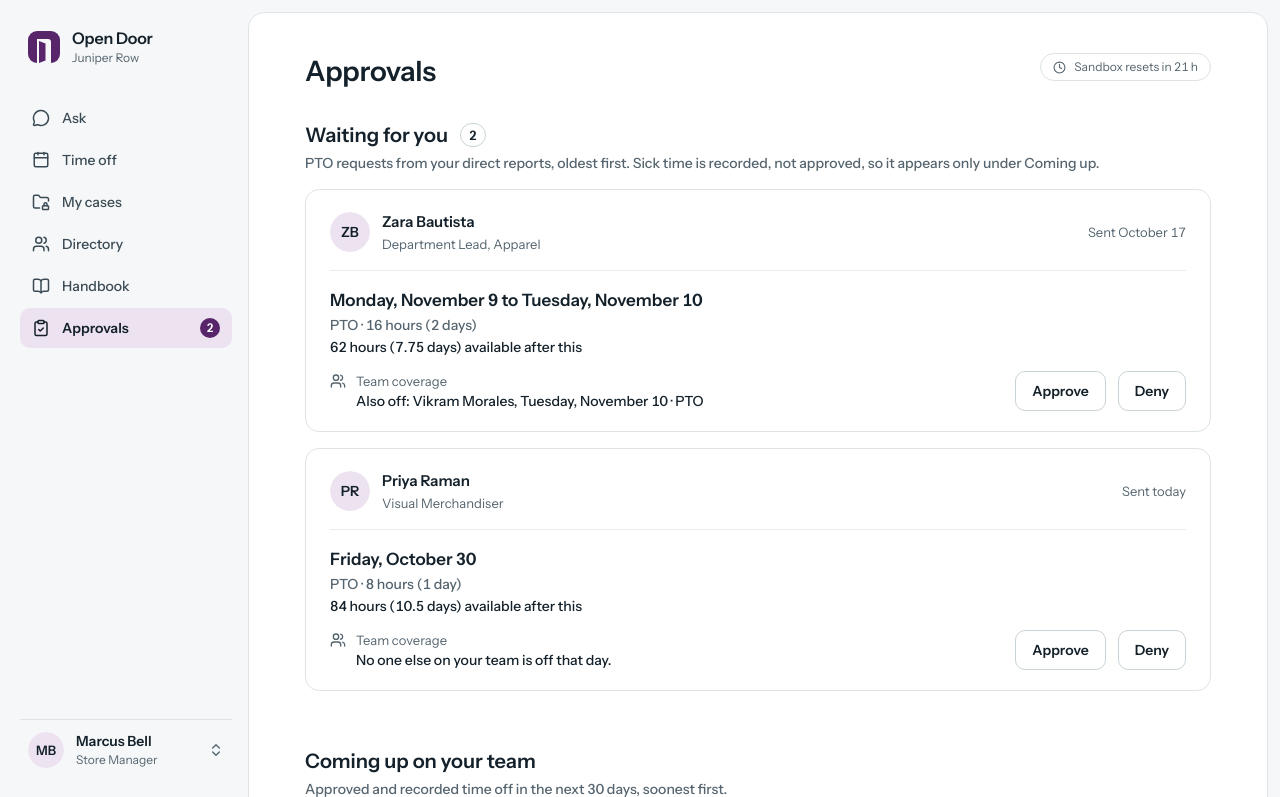
Test: Approvals: deciding › denies with a note: the toast says the note will be seen, and the note is sent
Expected: the heading "Waiting for you 2" is shown, [305, 123, 486, 147]
Click the button "Deny" below "Sent October 17" at x=1152, y=391, box [1118, 371, 1186, 411]
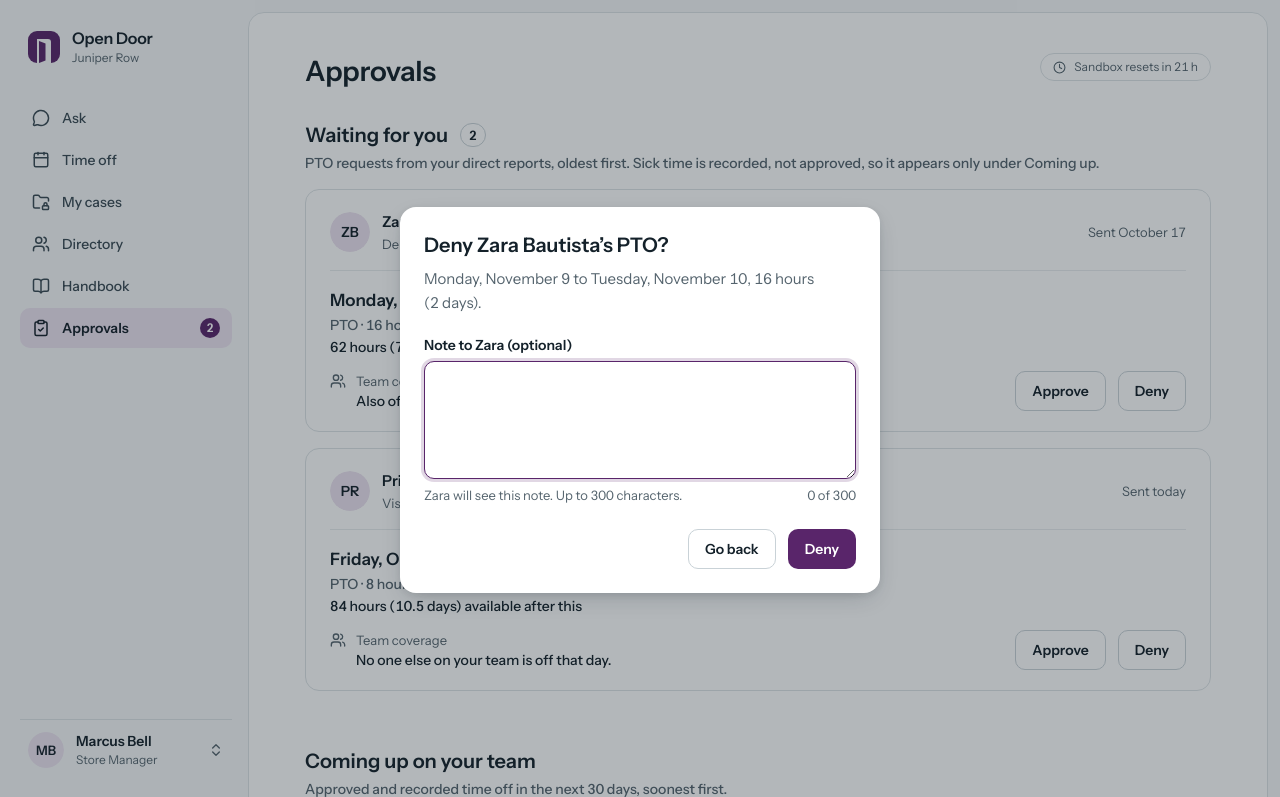
Type "Inventory runs that week." into the text box at x=640, y=420, box [424, 361, 856, 479]
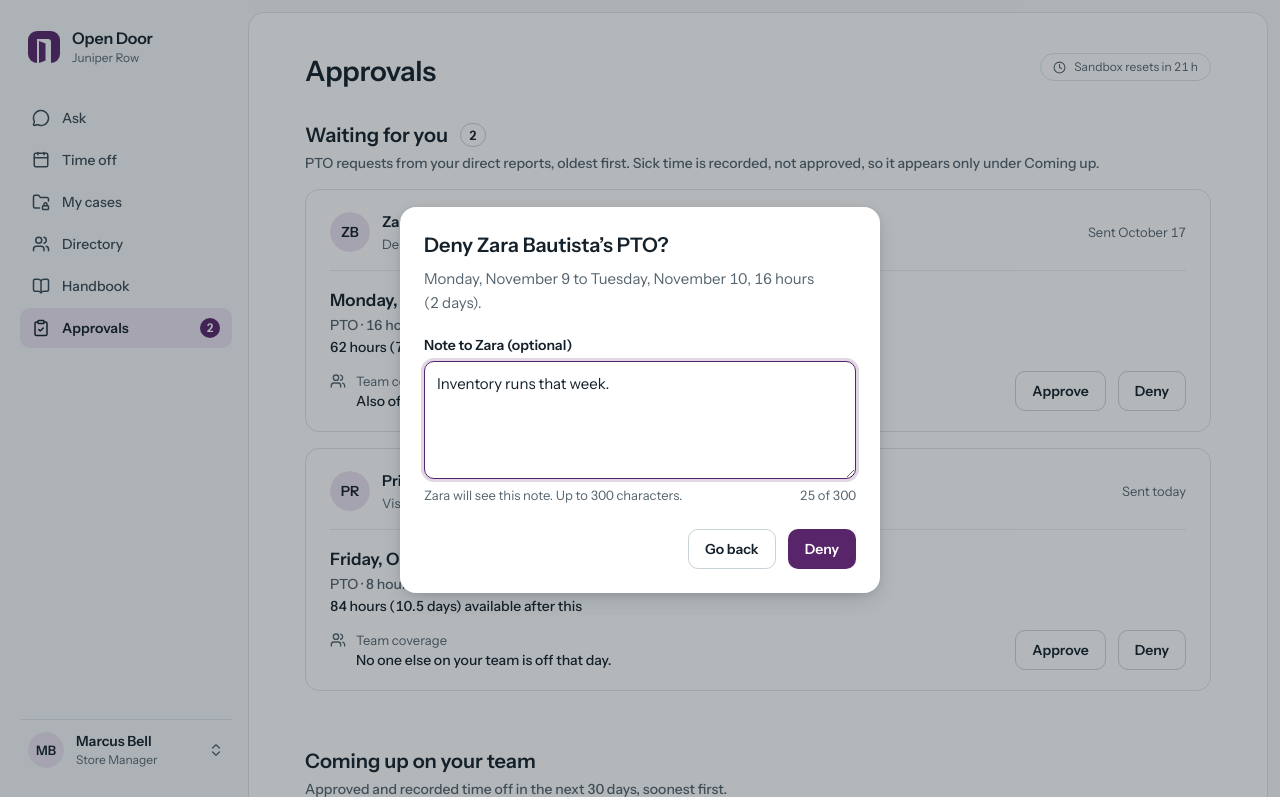
Click the button "Deny" at x=822, y=549, box [788, 529, 856, 569]
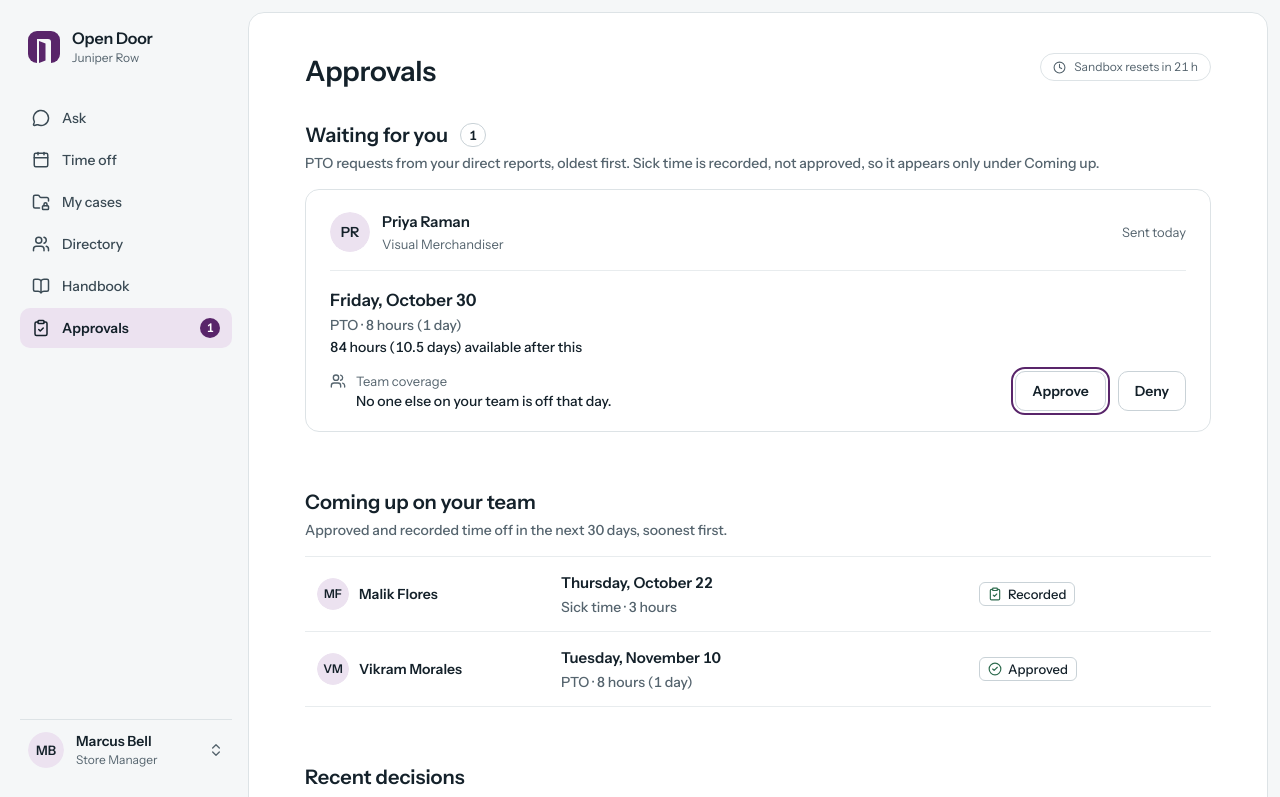
Now the dialog is gone
